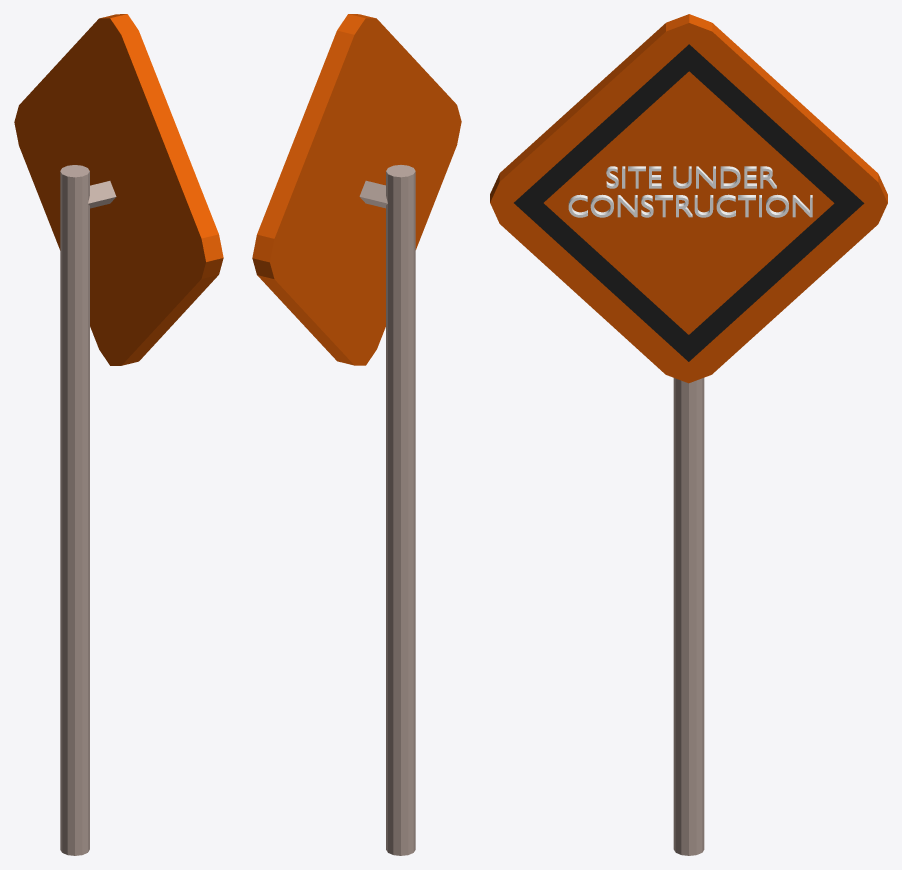
The picture shows the model from 3 angles, left to right: view 1: azimuth 30°, elevation 25°; view 2: azimuth 150°, elevation 25°; view 3: azimuth 270°, elevation 25°; orthographic projection. The views are drawn at different scales.
Parts seen in each view (by area): view 1: Sign.001_8; view 2: Sign.001_8; view 3: Sign.001_8, Text.
Part boxes in pixels (x1,y1,x2,y2): Sign.001_8: (14,14,223,855); Sign.001_8: (252,14,461,855); Sign.001_8: (490,14,887,855); Text: (568,166,812,217).
Size of the model in its own units: 0.5689 by 6.27 by 2.65.
